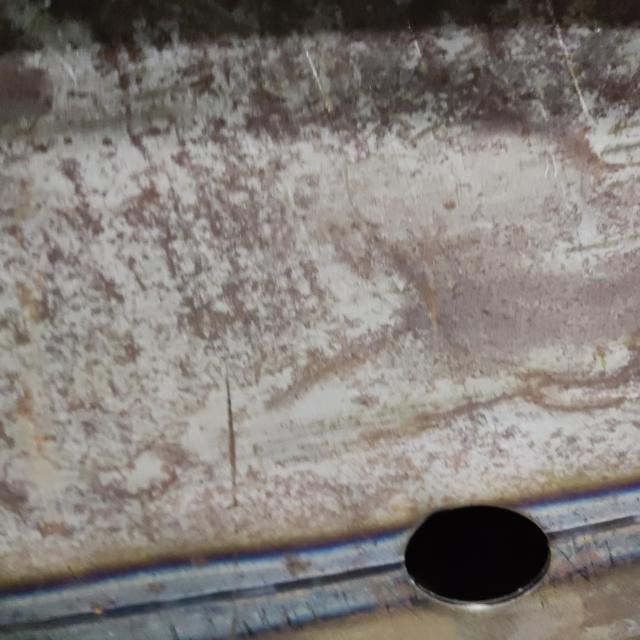seam: (0, 465, 640, 640)
